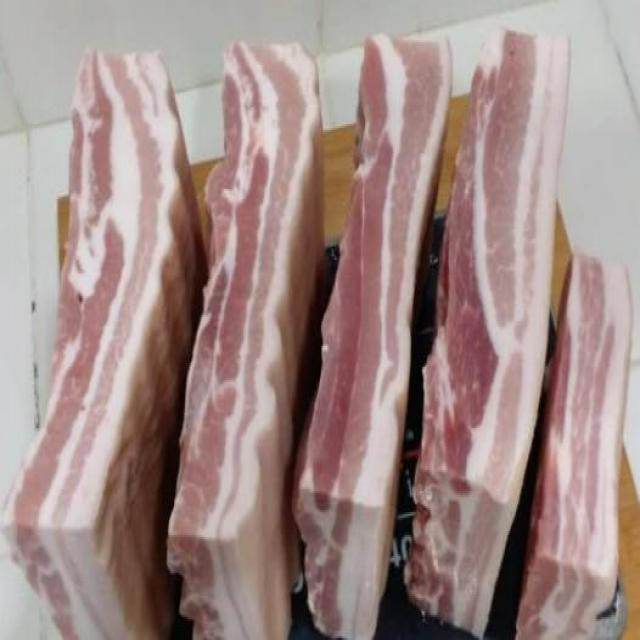Pork: (24, 44, 196, 636), (290, 28, 441, 640), (165, 36, 319, 609), (515, 235, 637, 640)
